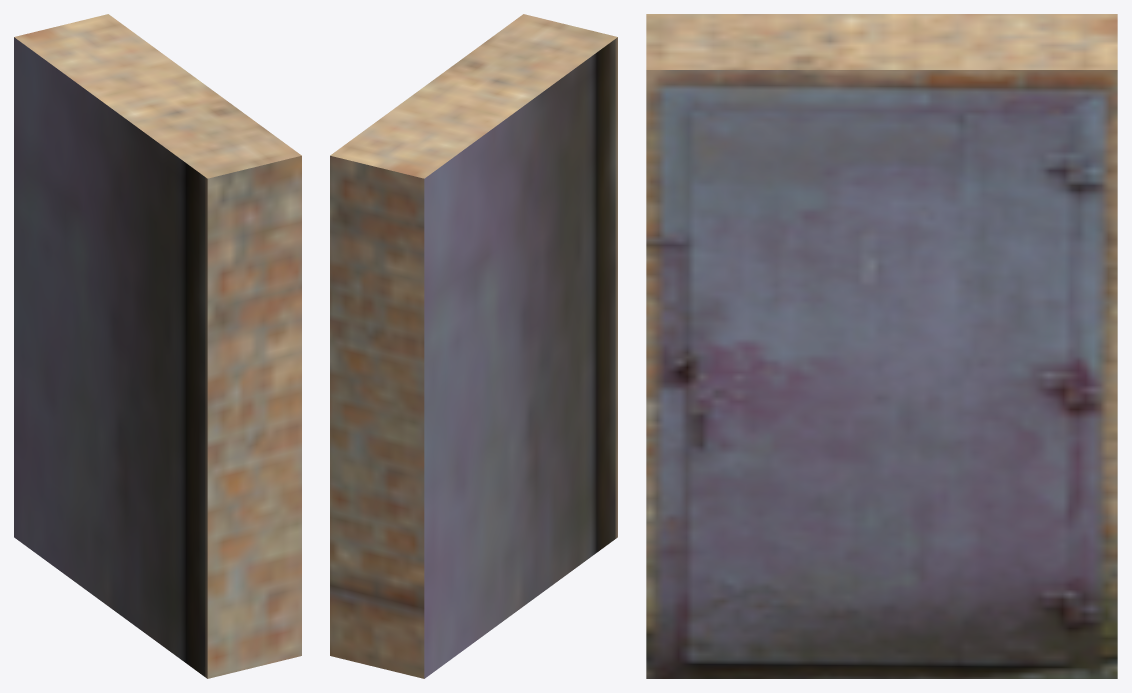
File: metal_door.glb
3 renders of one model, left to right at view 1: azimuth 30°, elevation 25°; view 2: azimuth 150°, elevation 25°; view 3: azimuth 270°, elevation 25°, orthographic. The views are drawn at different scales.
Visible parts, largest first — view 1: Cube; view 2: Cube; view 3: Cube.
Part boxes in pixels (left/top/right/bottom): Cube: left=14, top=14, right=301, bottom=678; Cube: left=330, top=14, right=617, bottom=678; Cube: left=646, top=14, right=1117, bottom=678.
Bounding box in the file's own units: 0.6225 × 3.15 × 2.21.
Materials: 1 (1 with a texture image).
